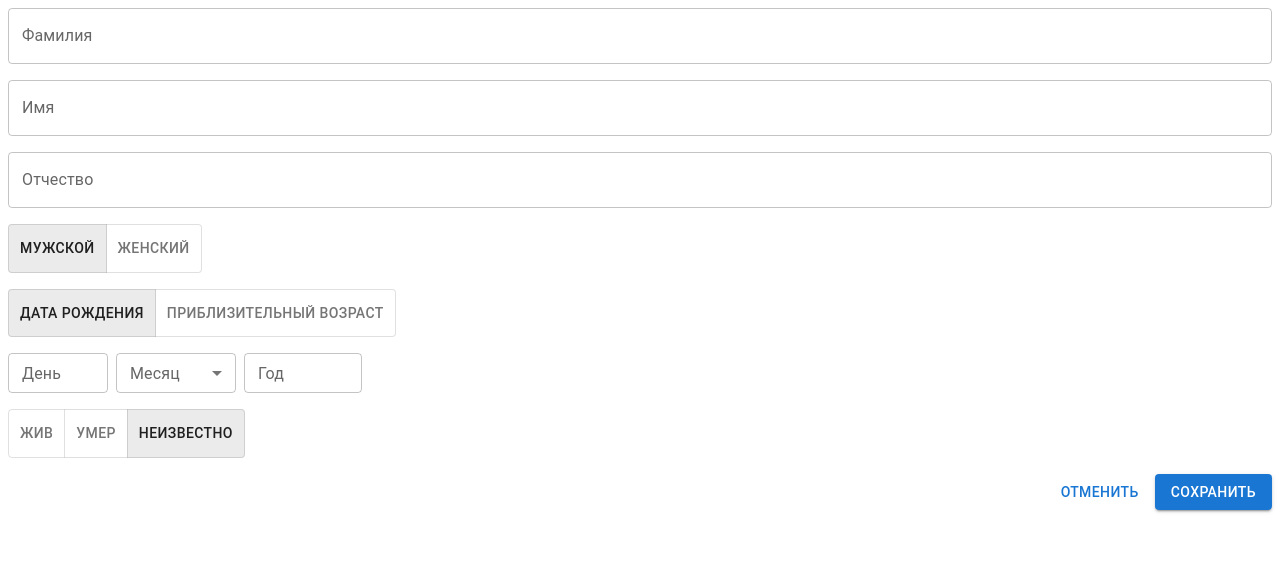
PersonDataForm — basic › switches to ApproximateAgeInput when "Приблизительный возраст" toggled
Click the button "Приблизительный возраст" at (275, 313), box [155,288,396,337]
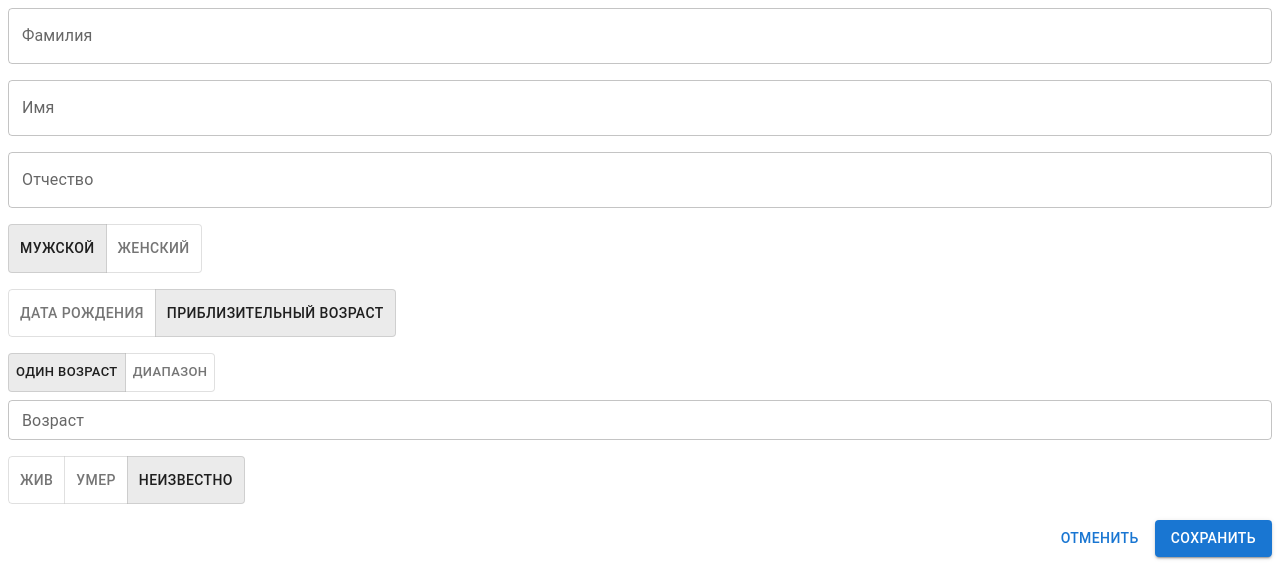
Expected: the text labelled "Месяц" is gone
